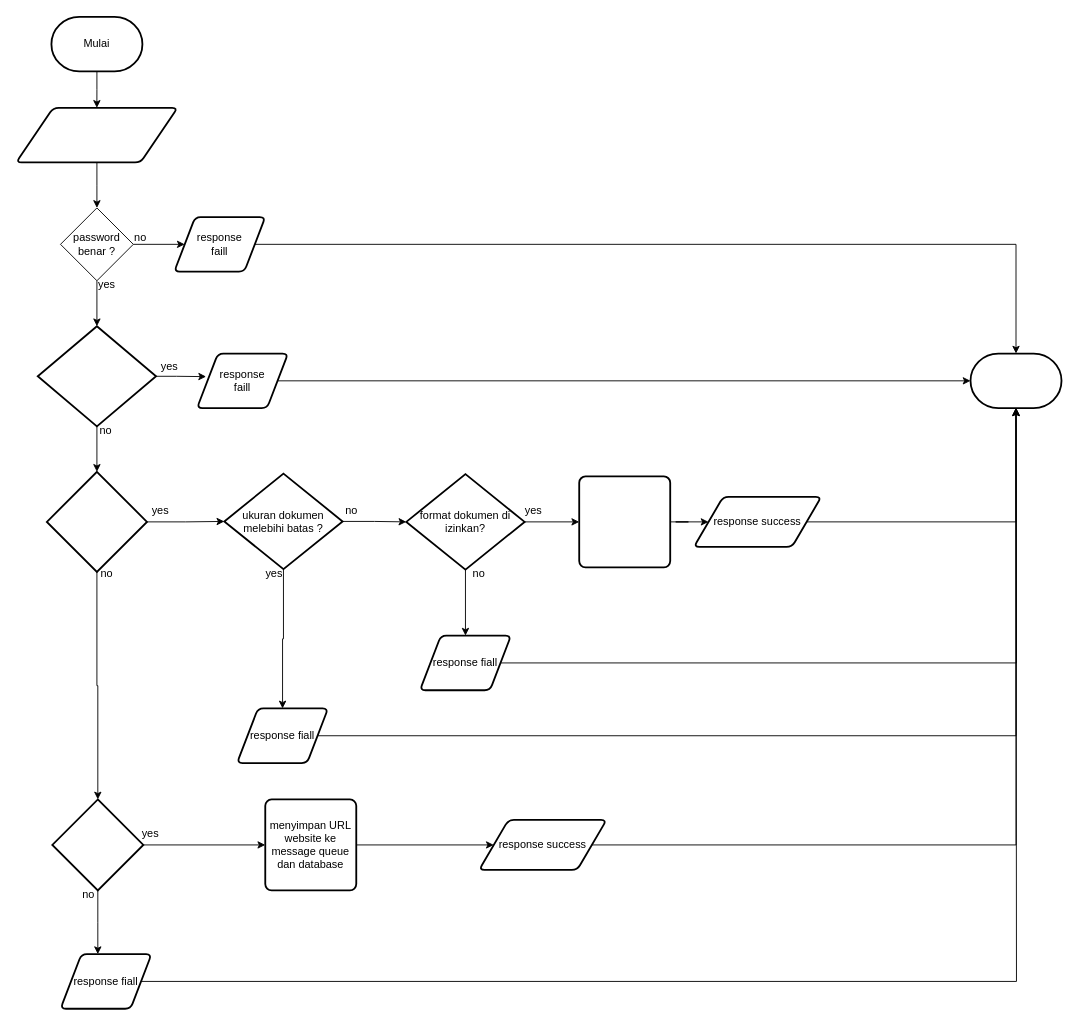
This 1078x1025 diagram has some shape labels left out. Here are the shapes that lost their labels. From the top down, the centre of each, then its label:
At point 96,134: "pengguna mengirim dokumen atau URL website dan password".
At point 96,376: "dokumen/URL website kosong ?".
At point 1015,380: "Selesai".
At point 96,521: "apakah dokumen?".
At point 624,521: "menyimpan path lokasi dokumen ke message queue dan database".
At point 97,844: "URL valid?".
